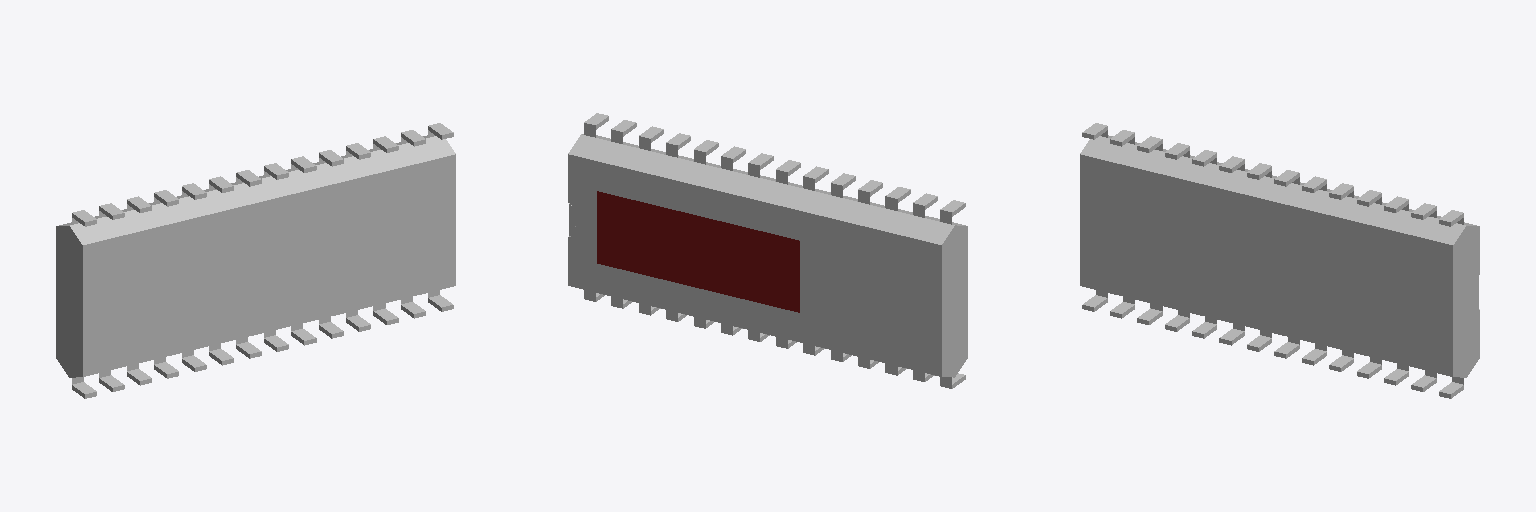
The model's file is Dil28.obj.
3 views of the same model, side by side, from view 1: azimuth 30°, elevation 25°; view 2: azimuth 150°, elevation 25°; view 3: azimuth 330°, elevation 25° (orthographic).
Visible parts, largest first — view 1: ShapeIndexedFaceSet.058_ShapeIndexedFaceSet; view 2: ShapeIndexedFaceSet.058_ShapeIndexedFaceSet, ShapeIndexedFaceSet.056_ShapeIndexedFaceSet.057; view 3: ShapeIndexedFaceSet.058_ShapeIndexedFaceSet.
Part boxes in pixels (x1,y1,x2,y2): ShapeIndexedFaceSet.058_ShapeIndexedFaceSet: (56,135,455,377); ShapeIndexedFaceSet.058_ShapeIndexedFaceSet: (568,134,967,377); ShapeIndexedFaceSet.056_ShapeIndexedFaceSet.057: (597,191,799,312); ShapeIndexedFaceSet.058_ShapeIndexedFaceSet: (1080,135,1479,377).
Bounding box in the file's own units: 34.62 × 15.64 × 4.29.